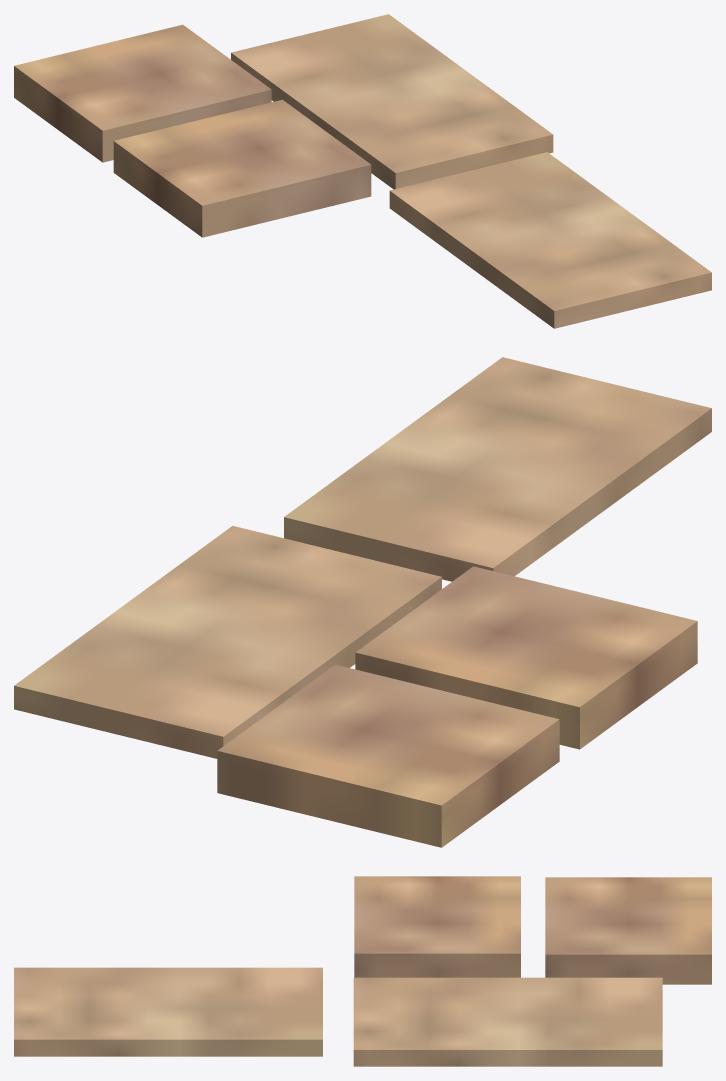
The model's file is Brick02.fbx.
3 views of the same model, one above another, from view 1: azimuth 30°, elevation 25°; view 2: azimuth 150°, elevation 25°; view 3: azimuth 270°, elevation 25° (orthographic). The views are drawn at different scales.
Parts seen in each view (by area): view 1: Brick02; view 2: Brick02; view 3: Brick02.
Part boxes in pixels (x1=…): Brick02: x1=14, y1=14, x2=711, y2=328; Brick02: x1=14, y1=357, x2=711, y2=847; Brick02: x1=14, y1=876, x2=711, y2=1066.
Size of the model in its own units: 47.33 by 4.11 by 86.95.
